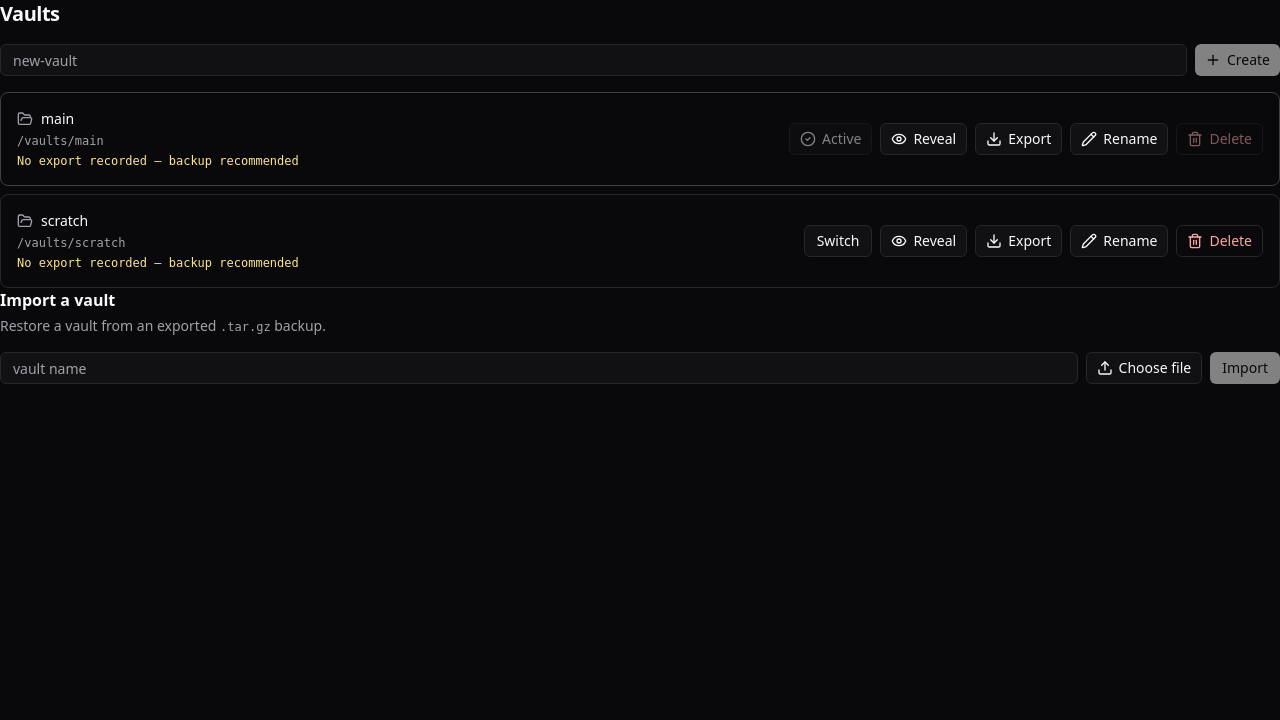
Test case: VaultSection — delete › does not archive when the dialog is cancelled
This screenshot has width=1280, height=720.
Check: the text "scratch" is shown, box [17,211,88,230]
Click the button "Delete" in the row of "/vaults/scratch" at (1220,241), box [1176,225,1263,257]
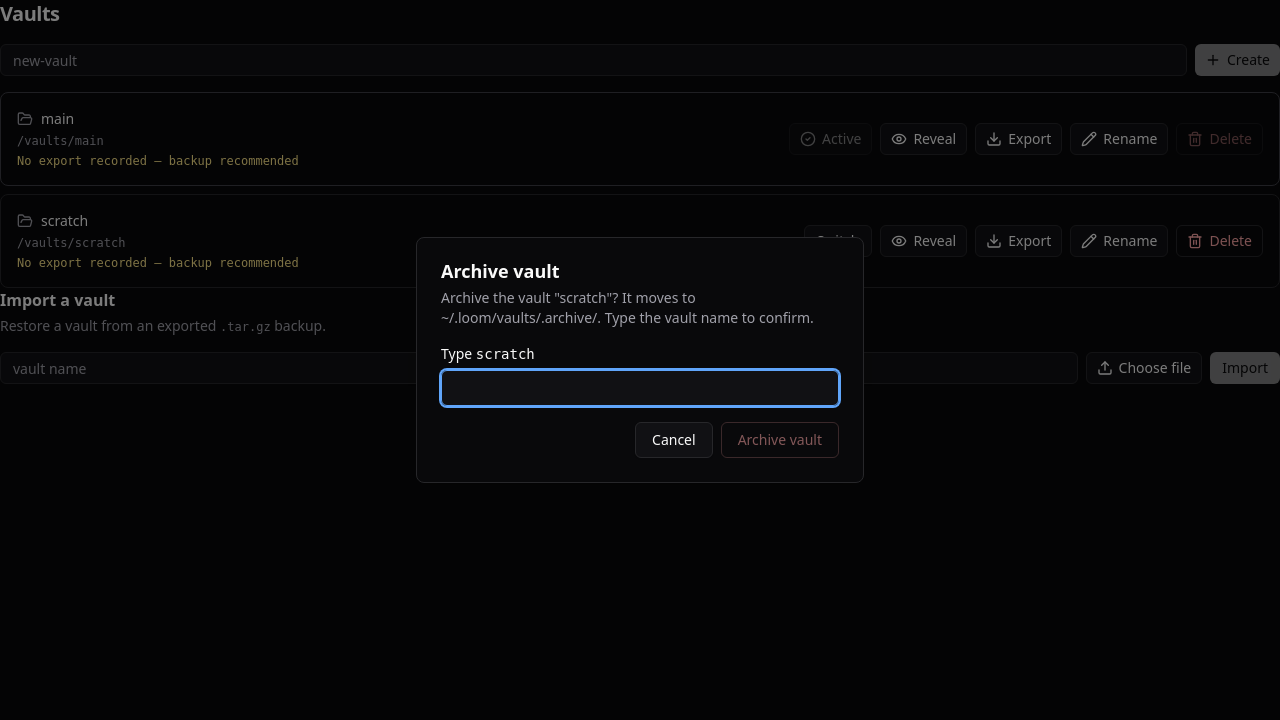
Type "wrong" into the field labelled "Type scratch" at (640,388), box [441,370,839,406]
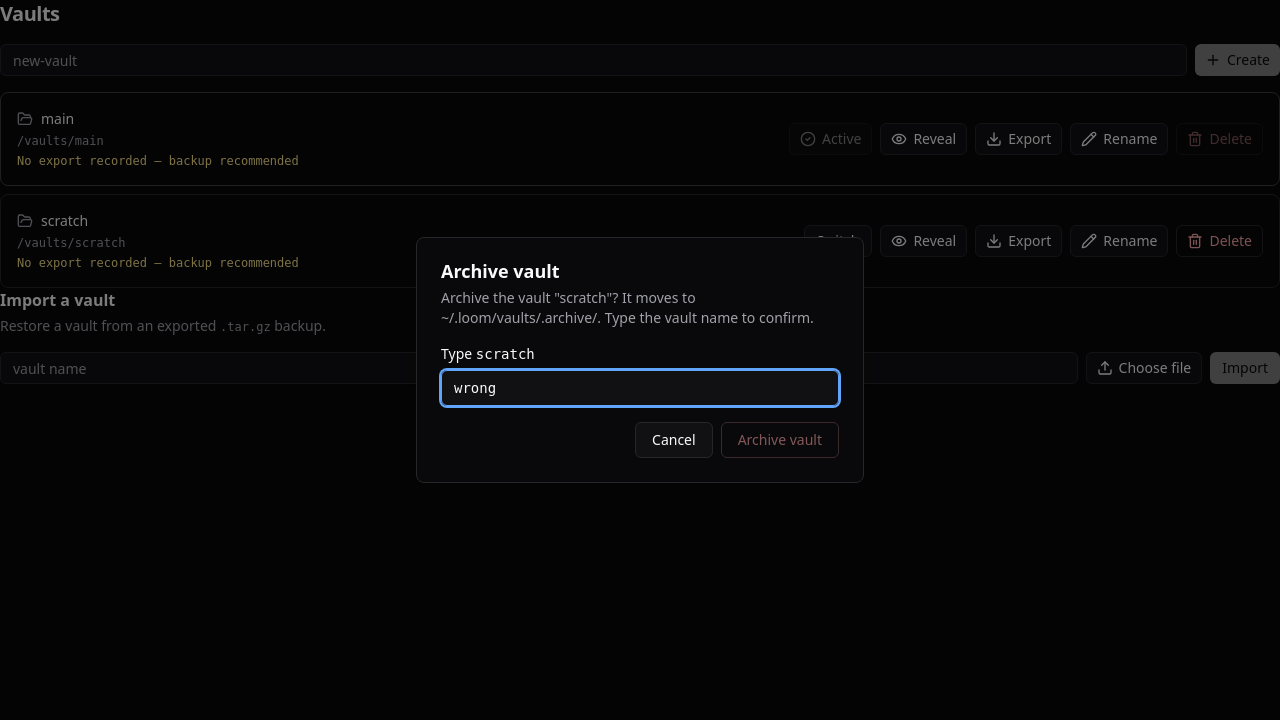
Click the button "Cancel" at (674,440), box [635,422,713,458]
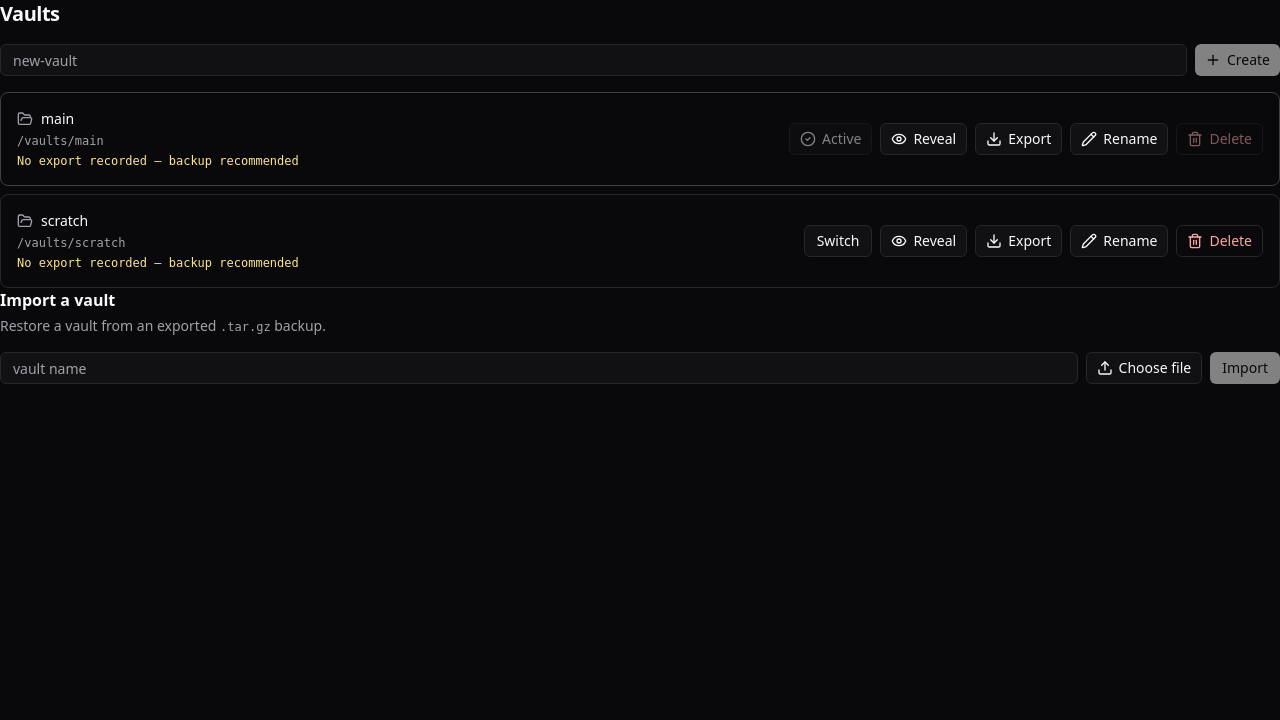
Check: the dialog is gone
